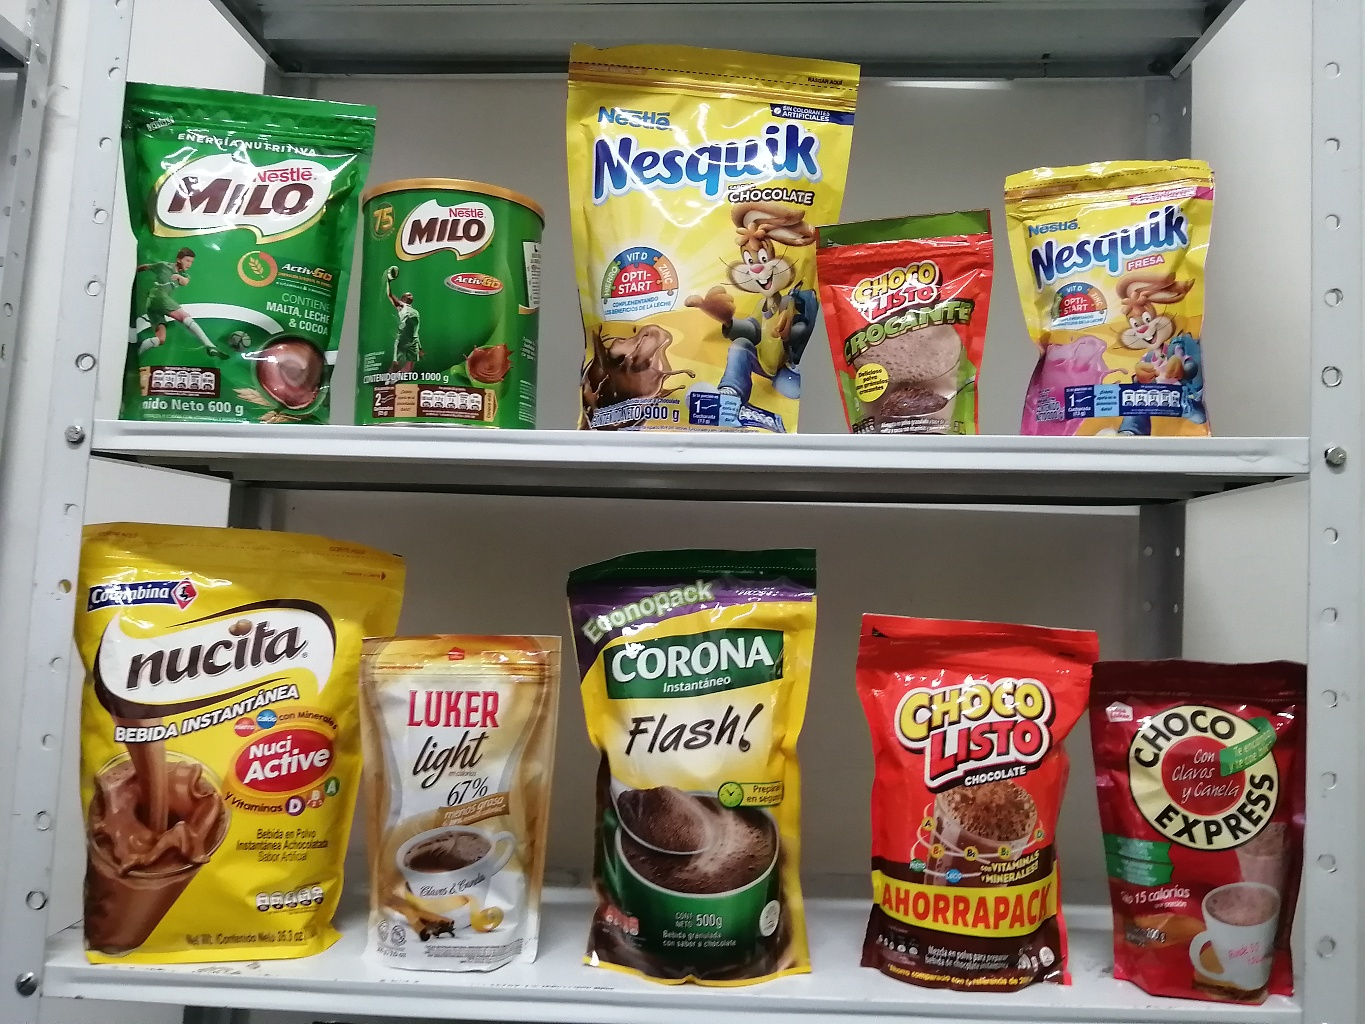COL0170102DYP10000: (792, 187, 1004, 454)
COL0170103DYP40000: (840, 598, 1107, 1002)
COL0170305DYP20000: (986, 150, 1252, 446)
